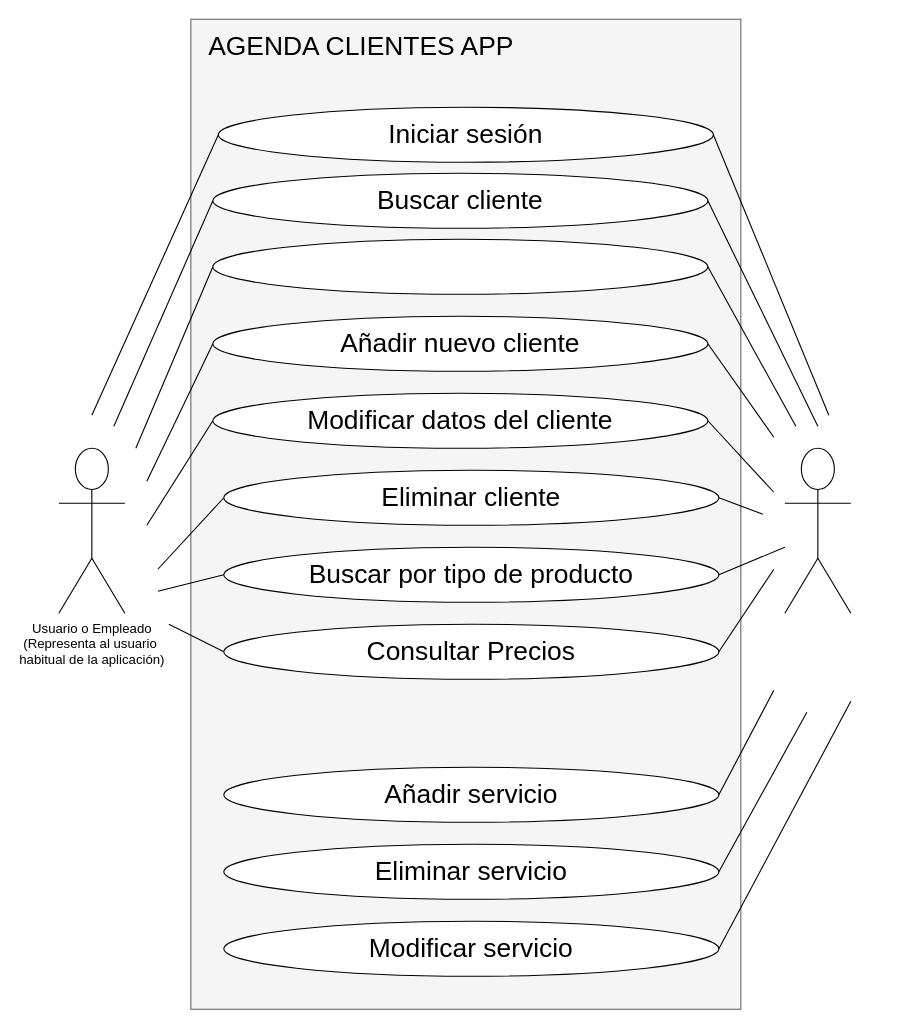
Some shapes in this 904 by 1029 pixel diagram are drawn without their labels. The centre of each missing label's shape, as x and y in pixels:
"Administrador (Usuario con funciones adicionales de gestión)" goes at (x=817, y=530).
"Consultar información del cliente" goes at (x=460, y=266).
